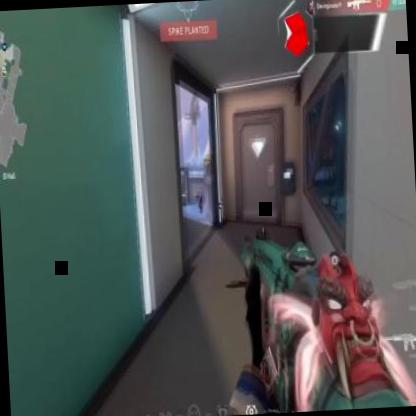enemy: (196, 190, 204, 214)
enemy_head: (198, 190, 202, 196)
